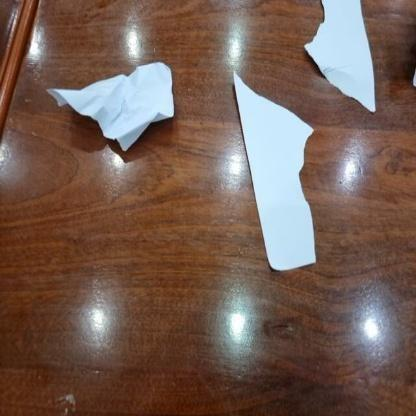trash: (230, 64, 326, 274), (40, 60, 191, 157), (297, 0, 380, 114)
